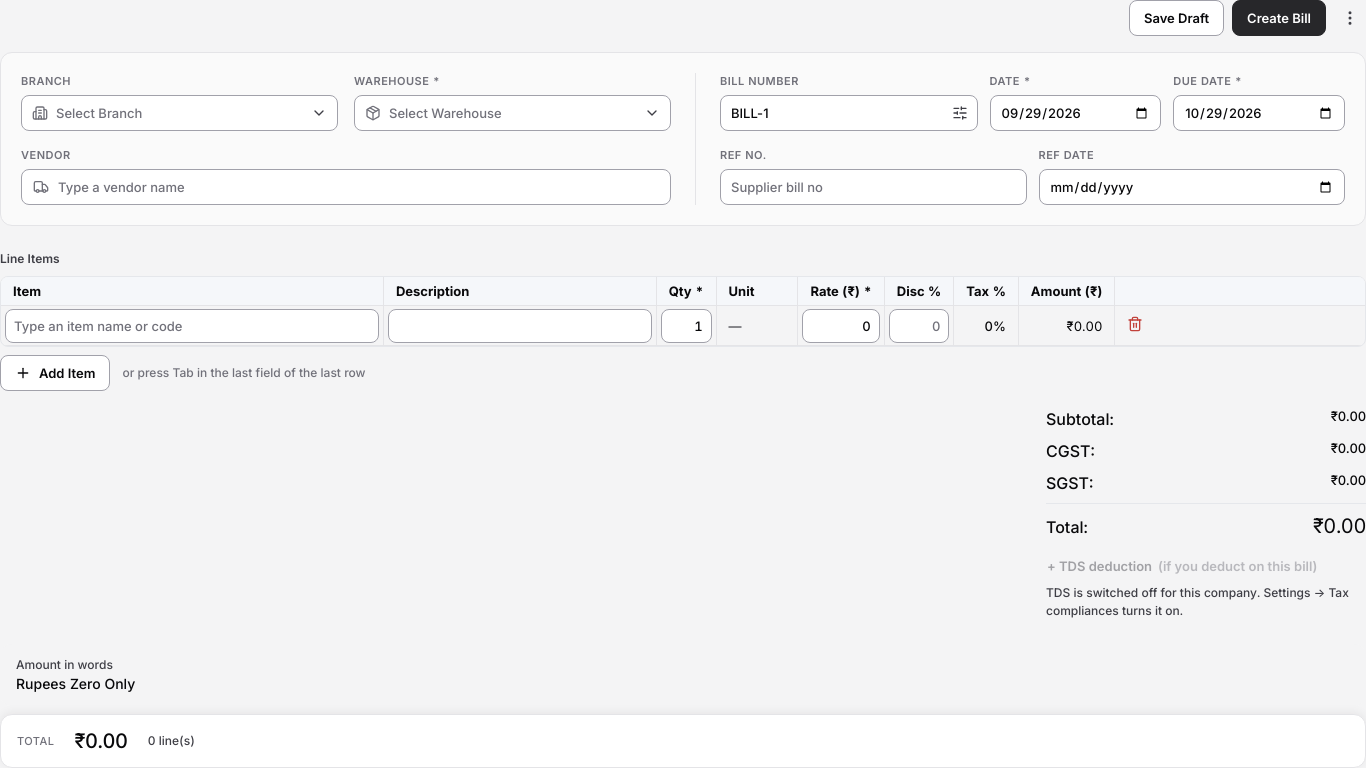
the branch on a bill › drops a warehouse that belongs to the branch just left
The image size is (1366, 768).
Click the dropdown named "Warehouse *". click: (445, 113)
box: [354,95,671,131]
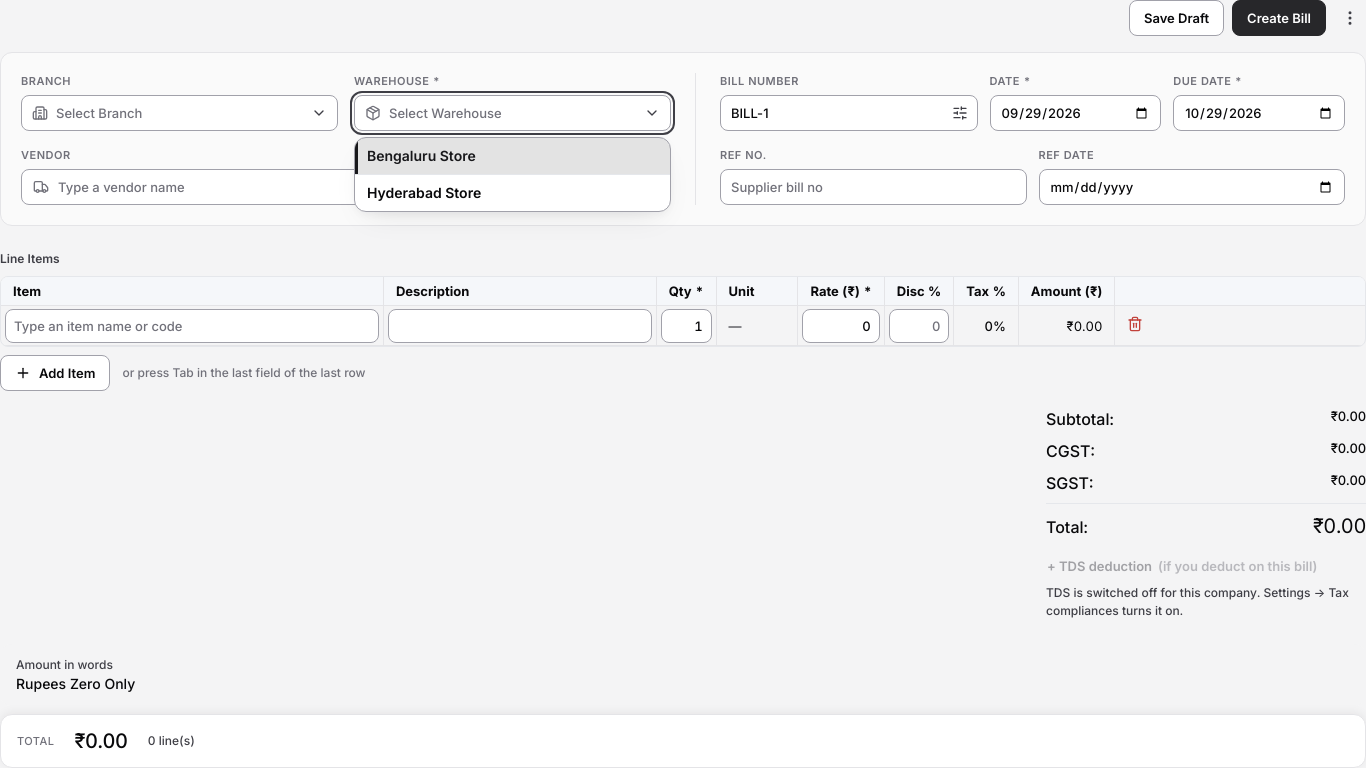
Click the option "Hyderabad Store". click: (424, 192)
box: [355,174,670,211]
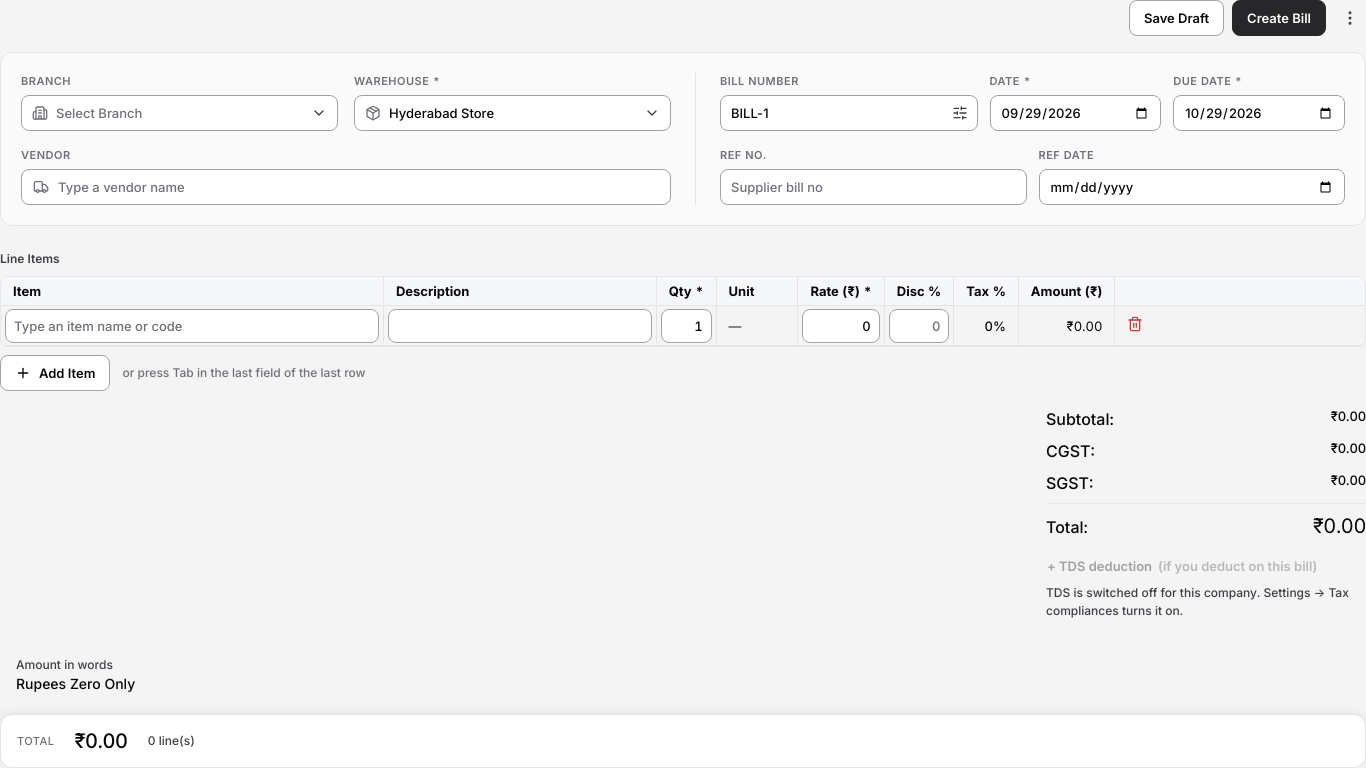
Check: the dropdown named "Warehouse *" reads "Hyderabad Store", box [354,95,671,131]
Click the dropdown labelled "Branch". click: (99, 113)
box: [21,95,338,131]
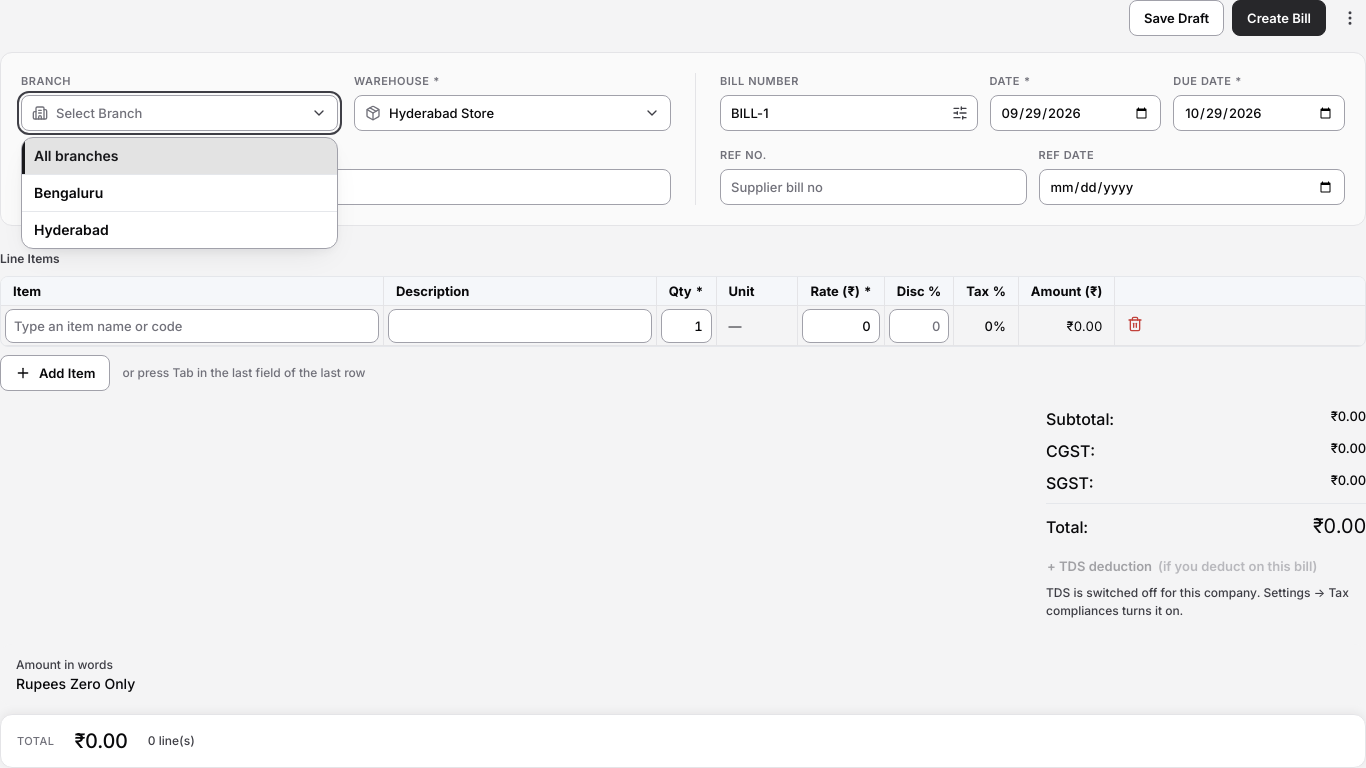
Click the option "Bengaluru". click: (69, 192)
box: [22,174,337,211]
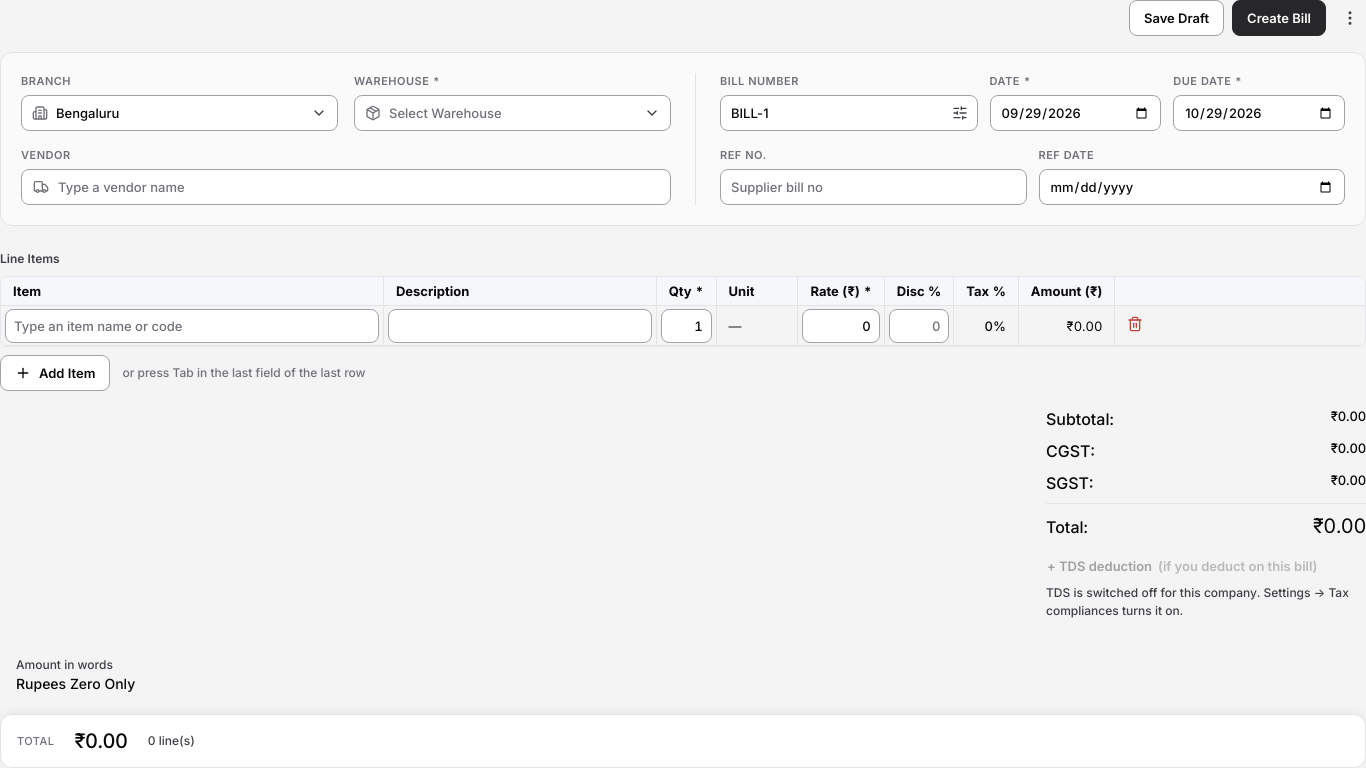
Check: the dropdown named "Warehouse *" reads "Select Warehouse", box [354,95,671,131]
